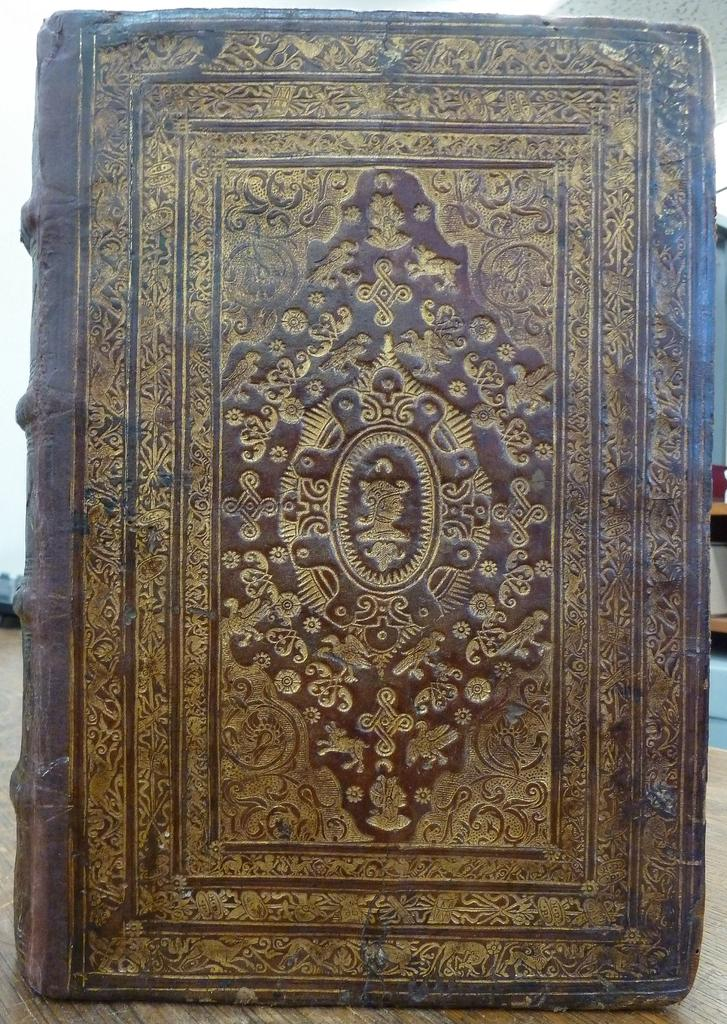book: (5, 8, 715, 1011)
